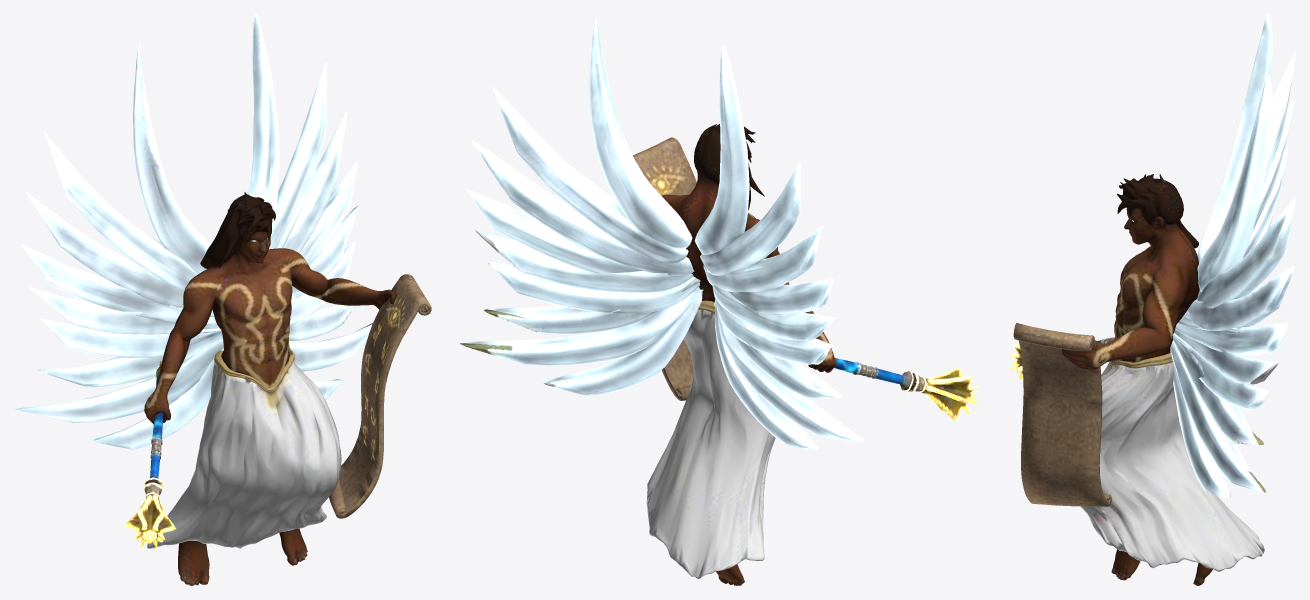
File: MZ4250 - Deva Male_2_2025.glb
3 renders of one model, left to right at view 1: azimuth 30°, elevation 25°; view 2: azimuth 150°, elevation 25°; view 3: azimuth 270°, elevation 25°, orthographic. The views are drawn at different scales.
Visible parts, largest first — view 1: Deva Male.001; view 2: Deva Male.001; view 3: Deva Male.001.
Boxes of the visible parts, <box> form: Deva Male.001: <box>14,14,431,585</box>; Deva Male.001: <box>460,14,979,585</box>; Deva Male.001: <box>1008,14,1295,585</box>.
Bounding box in the file's own units: 95.16 × 129 × 60.41.
Materials: 1 (1 with a texture image).
